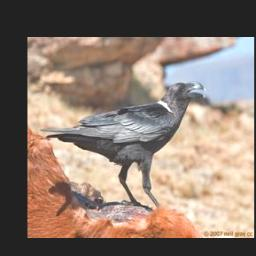Crow: (38, 78, 206, 211)
